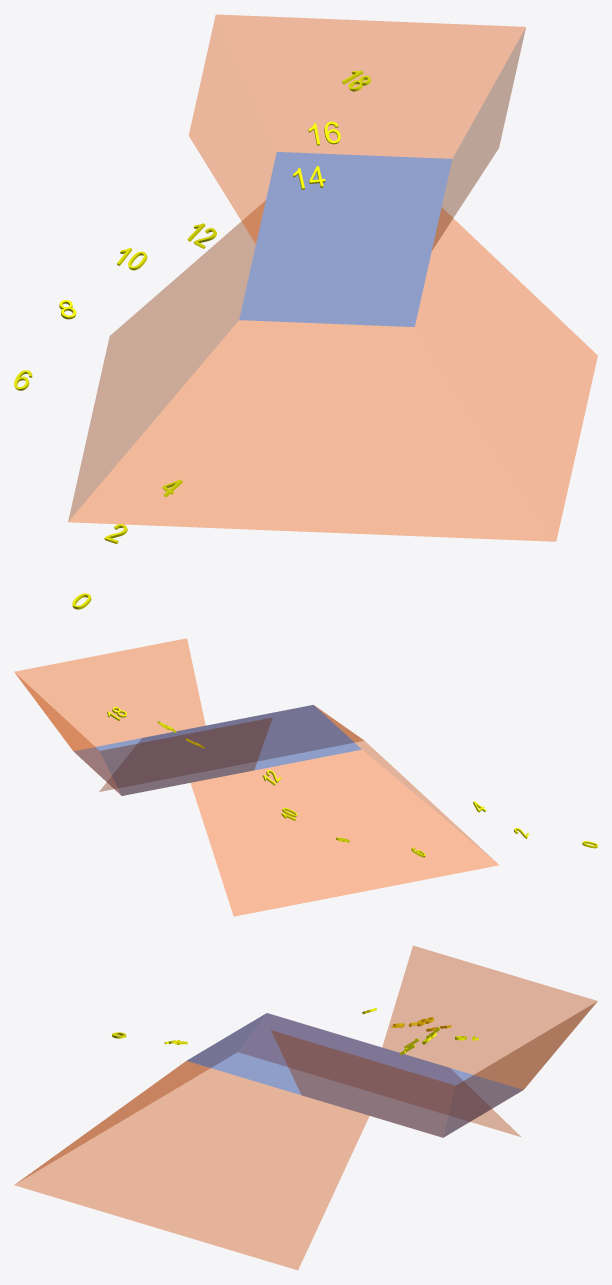
Rendered from curva13a.gltf.
The picture shows the model from 3 angles, top to bottom: view 1: azimuth 30°, elevation 25°; view 2: azimuth 150°, elevation 25°; view 3: azimuth 270°, elevation 25°; orthographic projection. The views are drawn at different scales.
Size of the model in its own units: 1311 by 490 by 1261.
